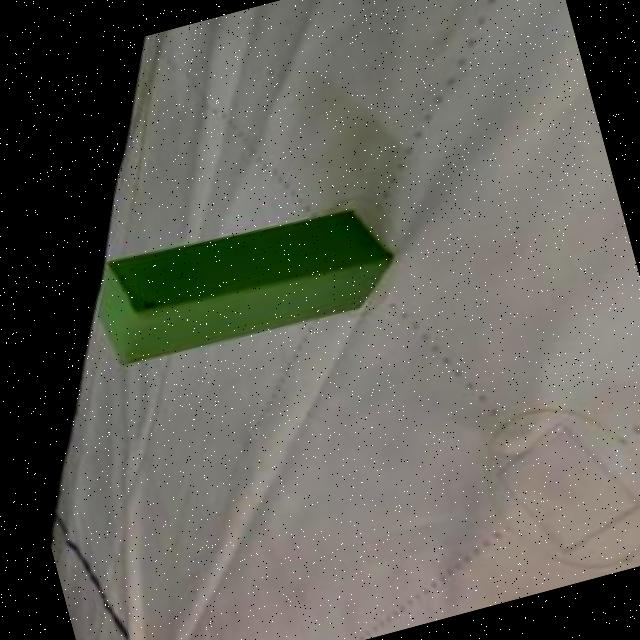greenbox: (83, 187, 406, 376)
